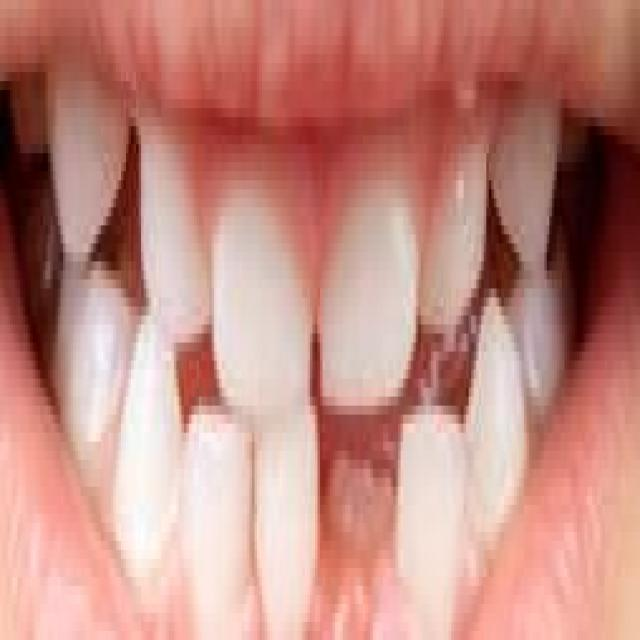caries: (330, 424, 400, 557)
